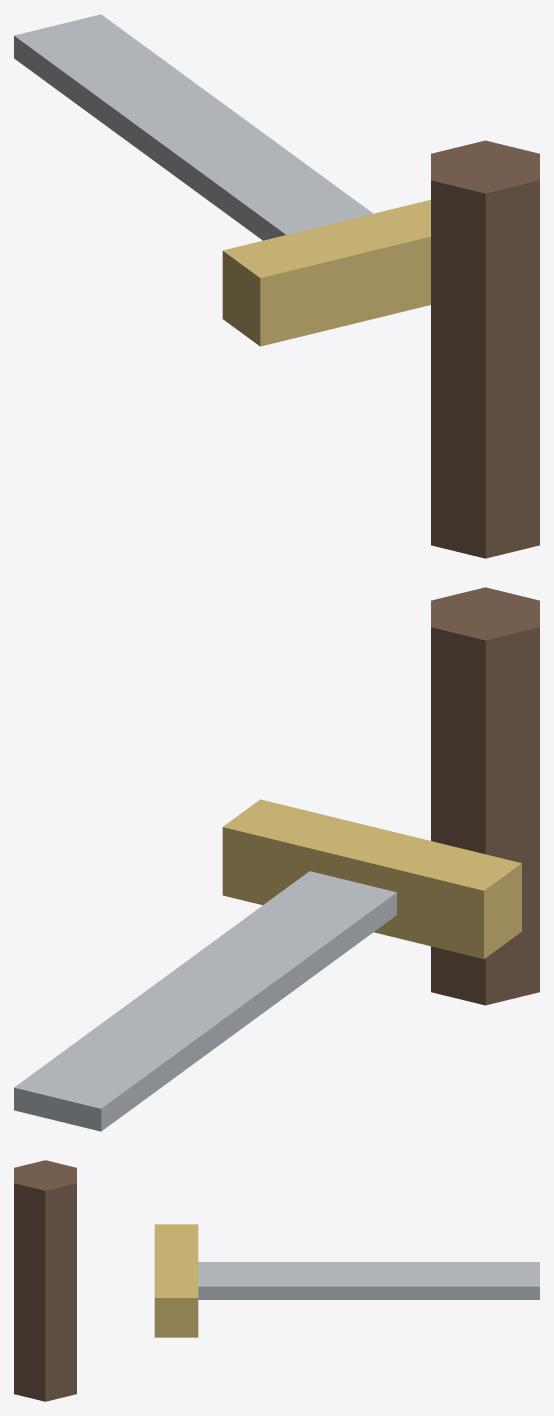
Rendered from haunted_ritualdagger.glb.
The picture shows the model from 3 angles, top to bottom: view 1: azimuth 30°, elevation 25°; view 2: azimuth 150°, elevation 25°; view 3: azimuth 270°, elevation 25°; orthographic projection. The views are drawn at different scales.
Visible parts, largest first — view 1: Haunted_RitualDagger; view 2: Haunted_RitualDagger; view 3: Haunted_RitualDagger.
Boxes of the visible parts, <box> form: Haunted_RitualDagger: <box>14,14,539,558</box>; Haunted_RitualDagger: <box>14,587,539,1131</box>; Haunted_RitualDagger: <box>14,1160,539,1401</box>.
Size of the model in its own units: 0.12 by 0.16 by 0.3617.
